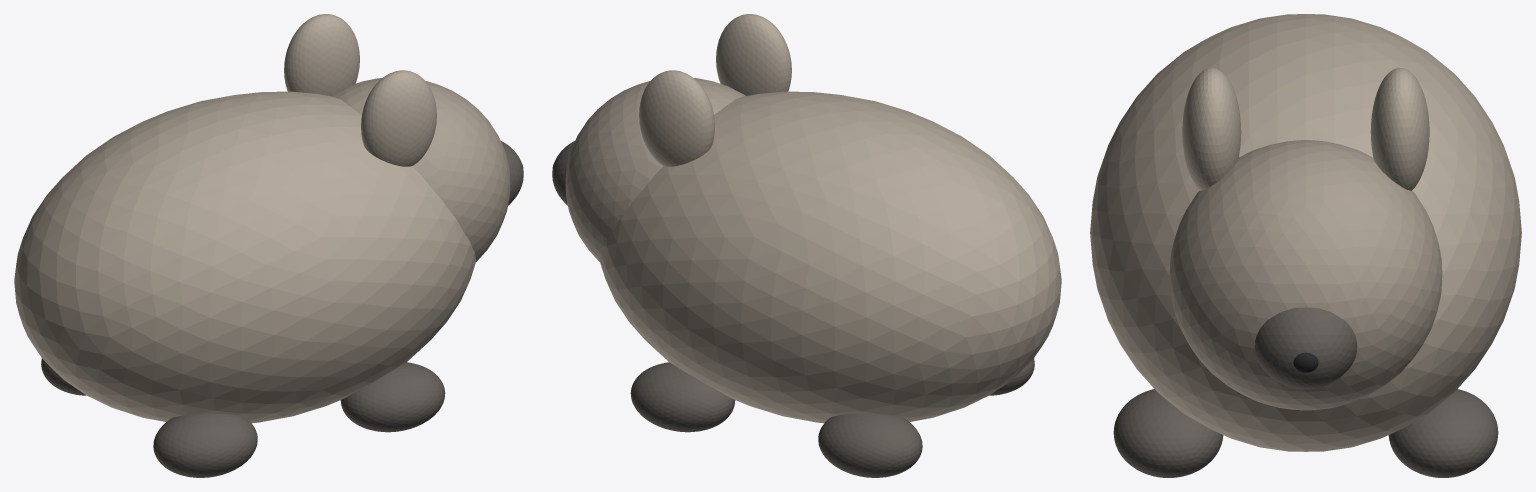
File: hyrax.glb
3 renders of one model, left to right at view 1: azimuth 30°, elevation 25°; view 2: azimuth 150°, elevation 25°; view 3: azimuth 270°, elevation 25°, orthographic. The views are drawn at different scales.
Parts seen in each view (by area): view 1: world; view 2: world; view 3: world.
Part boxes in pixels (x1,y1,x2,y2): world: (14,14,523,477); world: (552,14,1061,477); world: (1090,14,1521,477).
Bounding box in the file's own units: 3.53 × 2.31 × 2.2.
